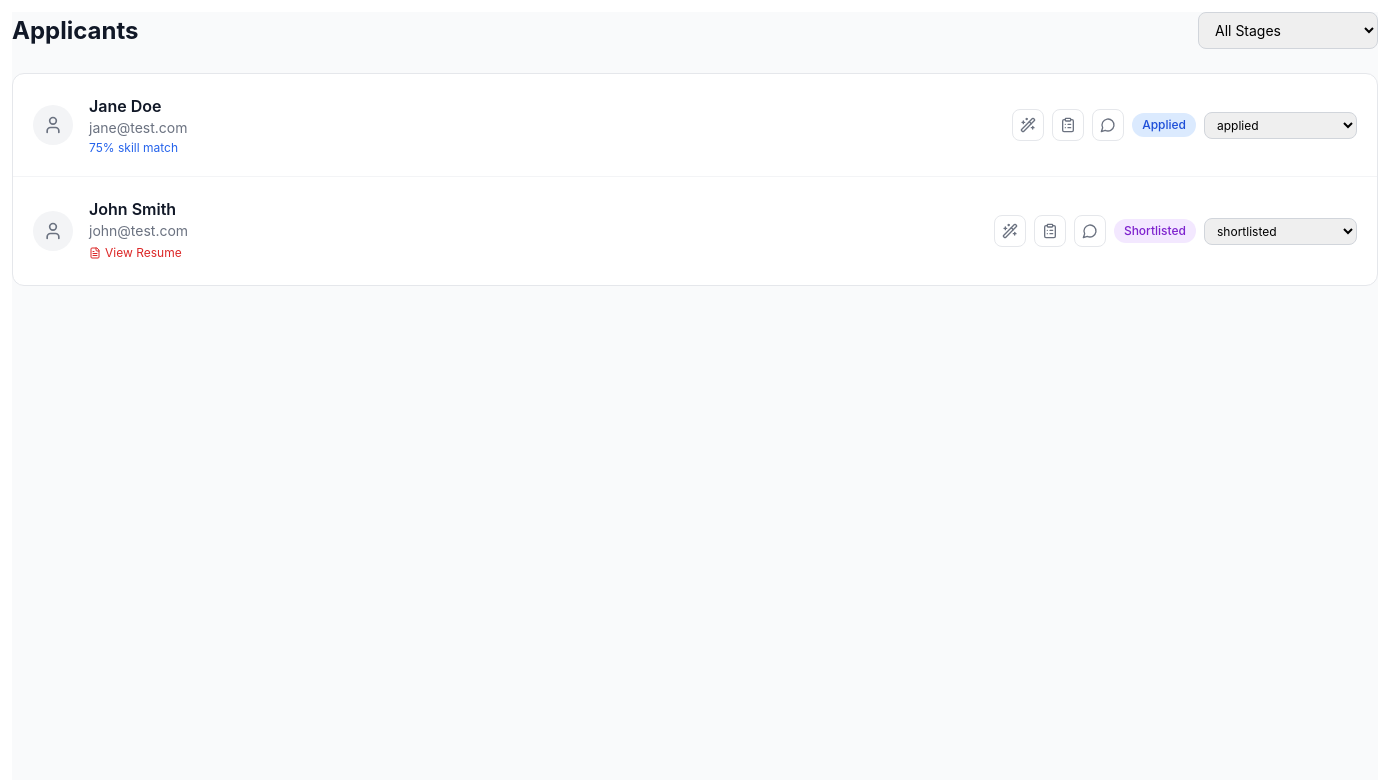
ApplicantsPage — list rendering and interactions › opens QuestionPanel when wand button is clicked
The width and height of the screenshot is (1390, 780).
# Click the first Wand2 button (AI questions)
What coordinates should you click on to do the following:
click the button named "Generate interview questions" next to "applied"
I would click on:
 (1028, 125)
Its box is 1012,109 -> 1044,141.
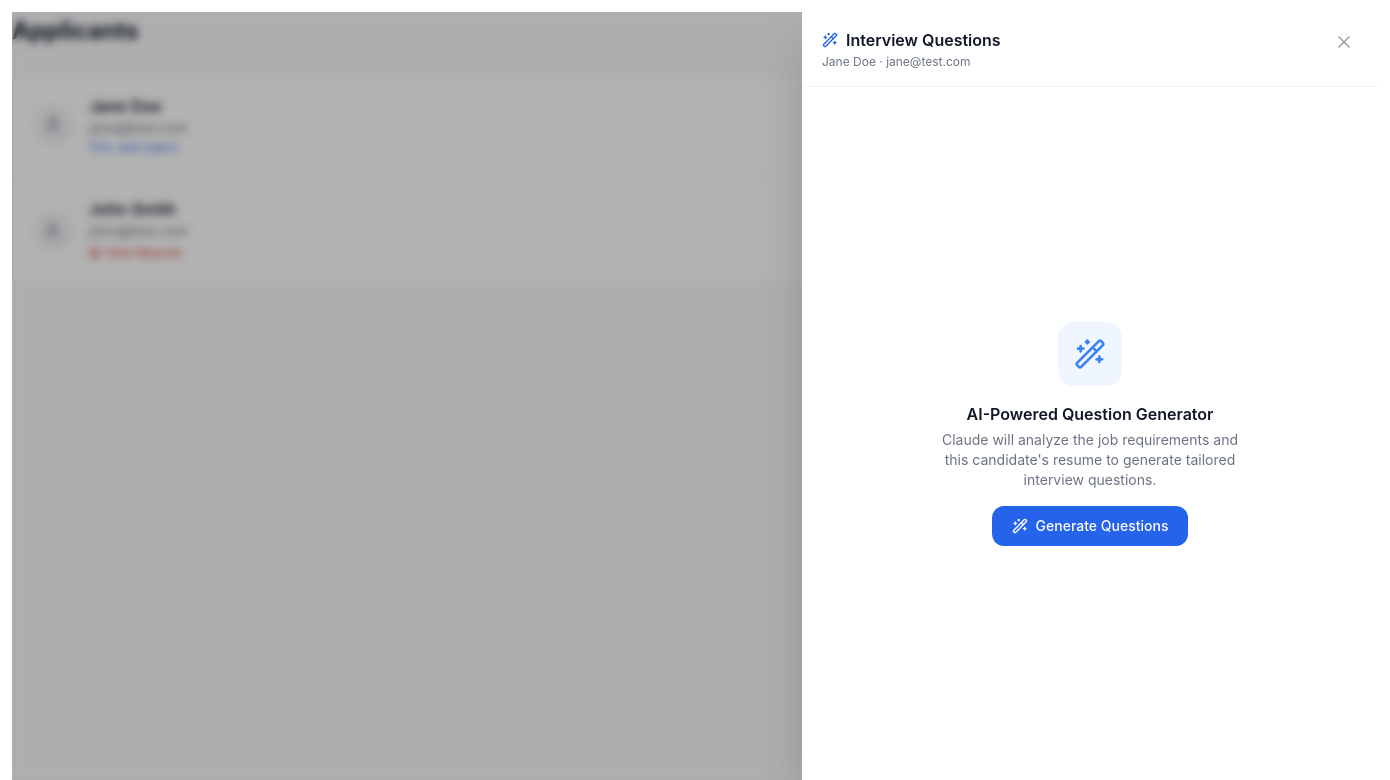
Check: the text "Interview Questions" is shown, box 822,28 -> 1001,52
